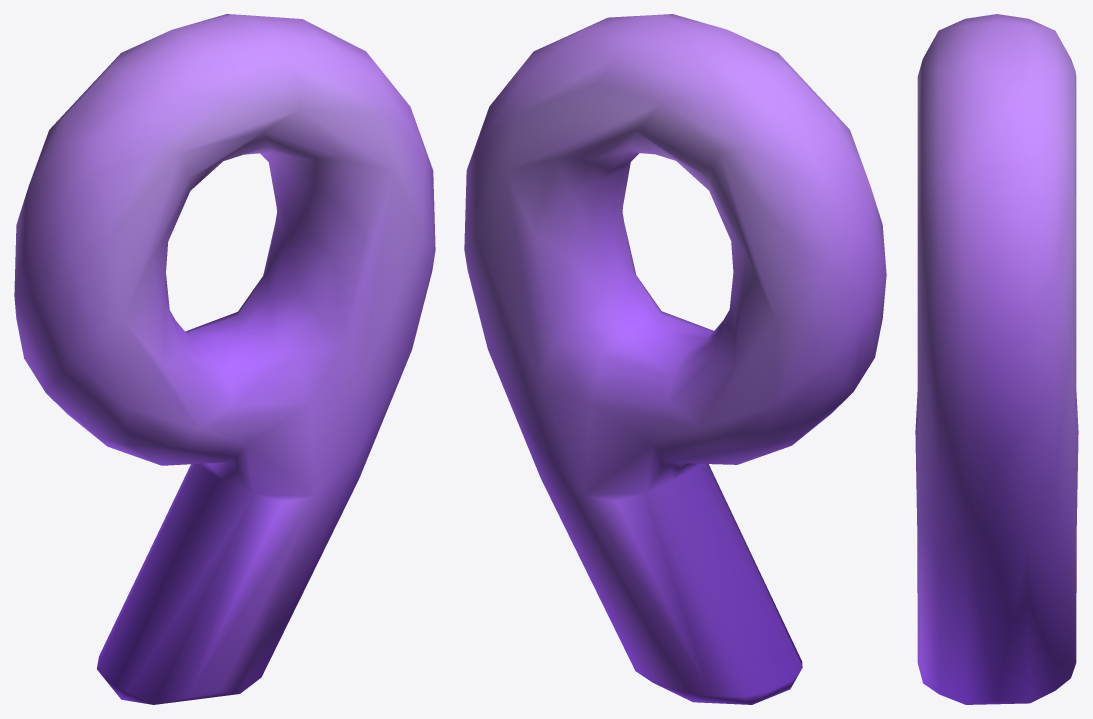
3 renders of one model, left to right at view 1: azimuth 30°, elevation 25°; view 2: azimuth 150°, elevation 25°; view 3: azimuth 270°, elevation 25°, orthographic. The views are drawn at different scales.
Parts seen in each view (by area): view 1: Processed_Mesh0_Geometry; view 2: Processed_Mesh0_Geometry; view 3: Processed_Mesh0_Geometry.
Boxes of the visible parts, x1,y1,x2,y2 form: Processed_Mesh0_Geometry: [14, 14, 435, 704]; Processed_Mesh0_Geometry: [464, 14, 886, 704]; Processed_Mesh0_Geometry: [915, 14, 1078, 704].
Size of what is drawn, in the model's own units: 0.0533 by 0.082 by 0.0182.
1 material, 1 textured.
